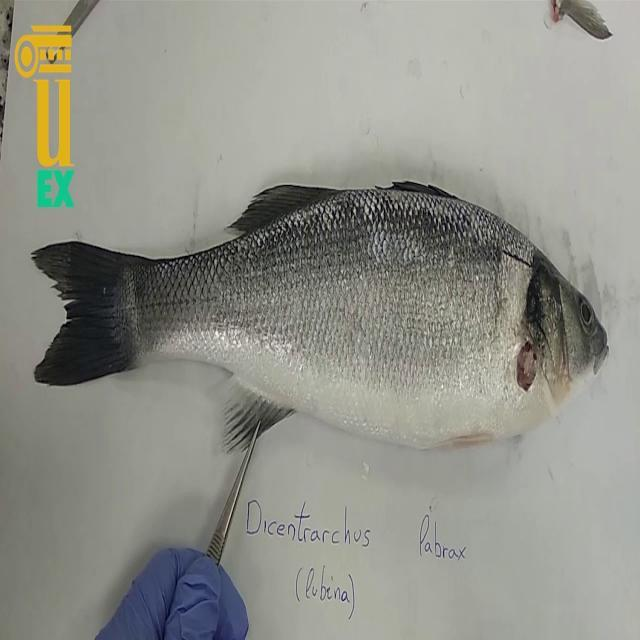Healthy Fish: (28, 175, 614, 453)
